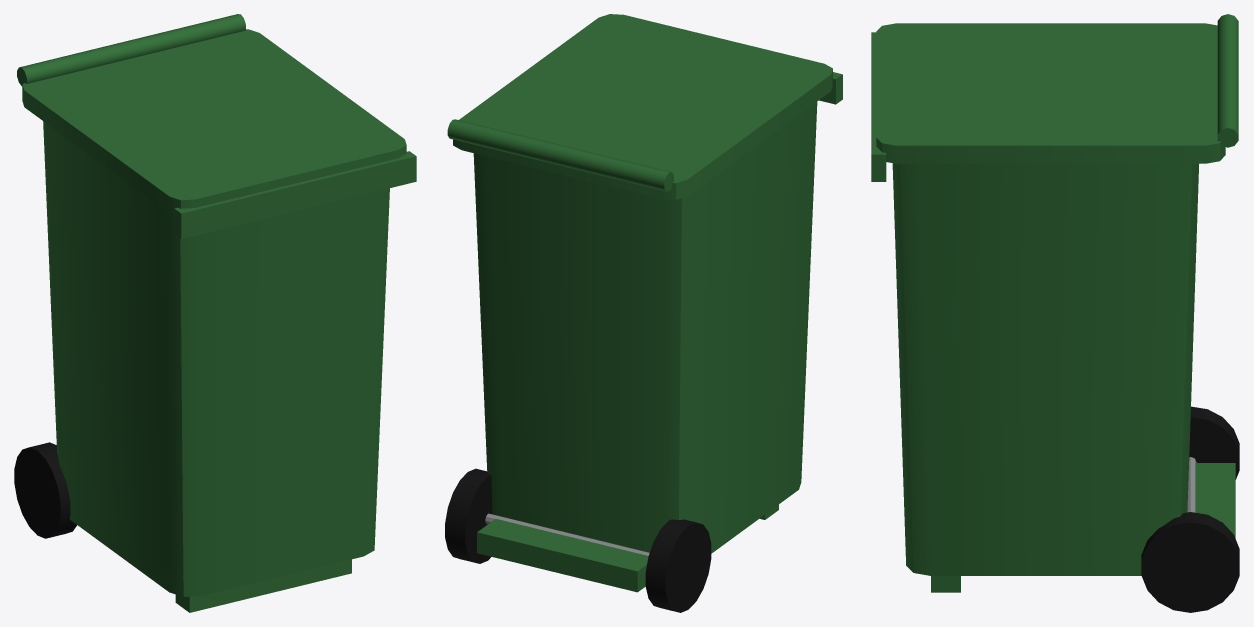
Rendered from wheelie_bin.glb.
The picture shows the model from 3 angles, left to right: view 1: azimuth 30°, elevation 25°; view 2: azimuth 150°, elevation 25°; view 3: azimuth 270°, elevation 25°; orthographic projection. The views are drawn at different scales.
Parts seen in each view (by area): view 1: Bin; view 2: Bin; view 3: Bin.
Part boxes in pixels (x1,y1,x2,y2): Bin: (14,14,416,612); Bin: (445,14,842,612); Bin: (871,14,1239,612).
Bounding box in the file's own units: 0.58 × 1.07 × 0.7385.
